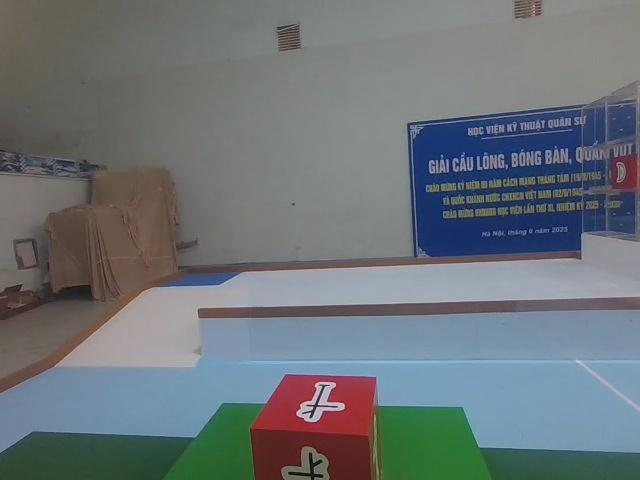R2 Real: (250, 373, 382, 480)
